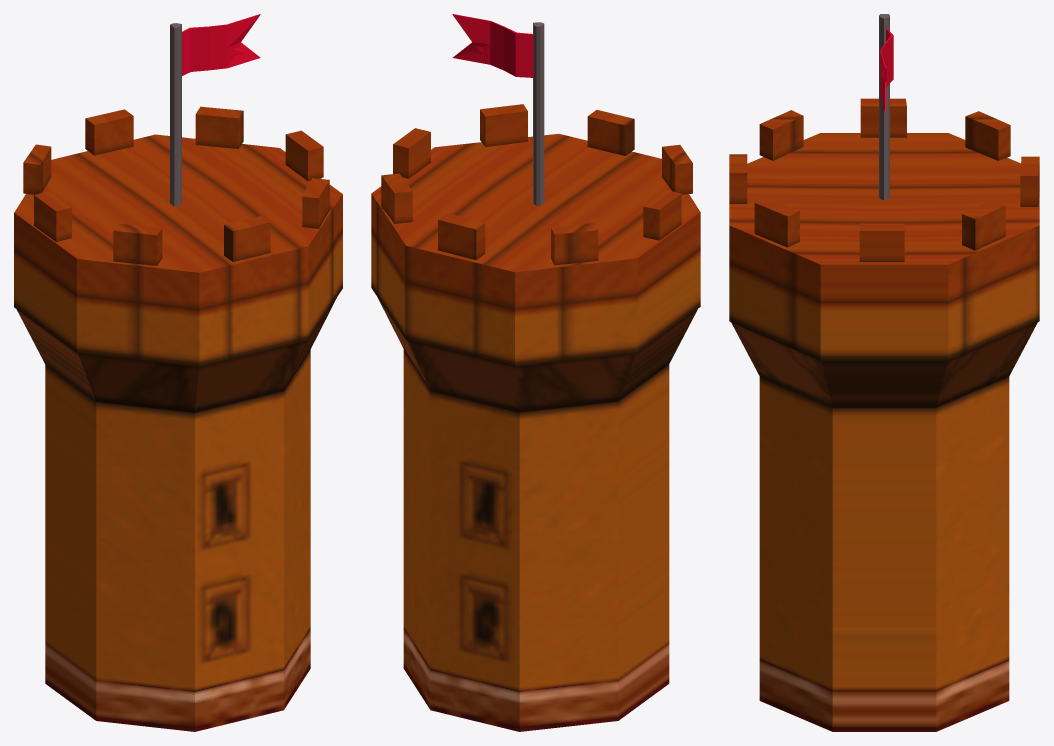
The model's file is WTower.glb.
3 views of the same model, side by side, from view 1: azimuth 30°, elevation 25°; view 2: azimuth 150°, elevation 25°; view 3: azimuth 270°, elevation 25° (orthographic).
Parts seen in each view (by area): view 1: WTower; view 2: WTower; view 3: WTower.
Part boxes in pixels (x1,y1,x2,y2): WTower: (14, 14, 342, 731); WTower: (371, 14, 700, 731); WTower: (729, 14, 1039, 731).
Bounding box in the file's own units: 279 × 651 × 277.
Materials: 1 (1 with a texture image).
